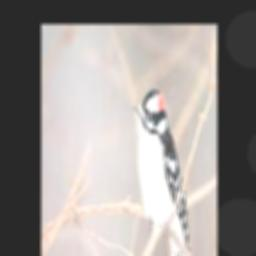Woodpecker: (133, 89, 190, 256)
